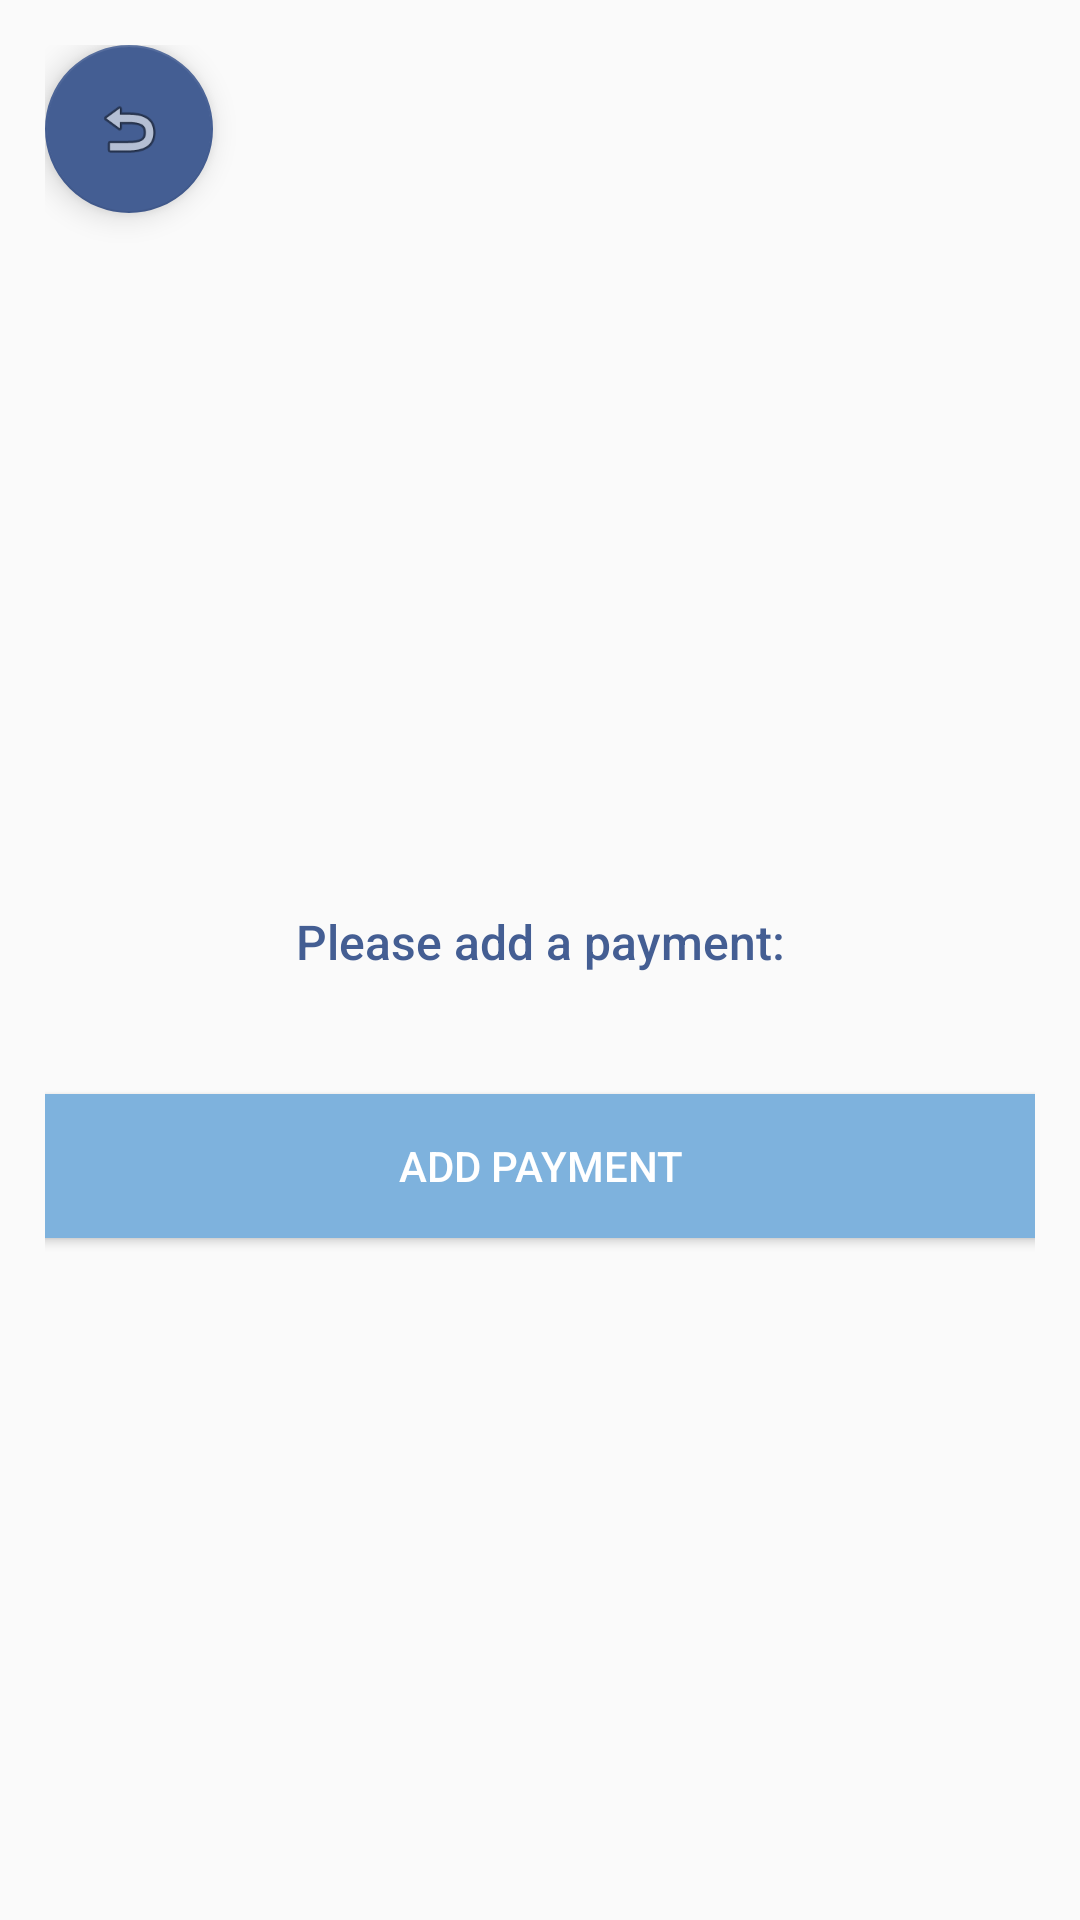

Screen size 1080 × 1920. Icon name, then its box in pixels as rect(x1, y1, x2, y2):
revert: rect(45, 45, 213, 213)
